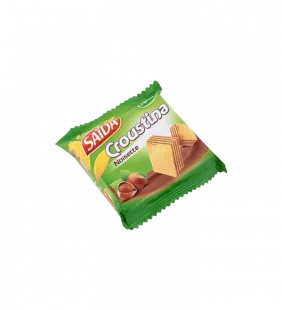CROUSTINA: (45, 76, 235, 236)
